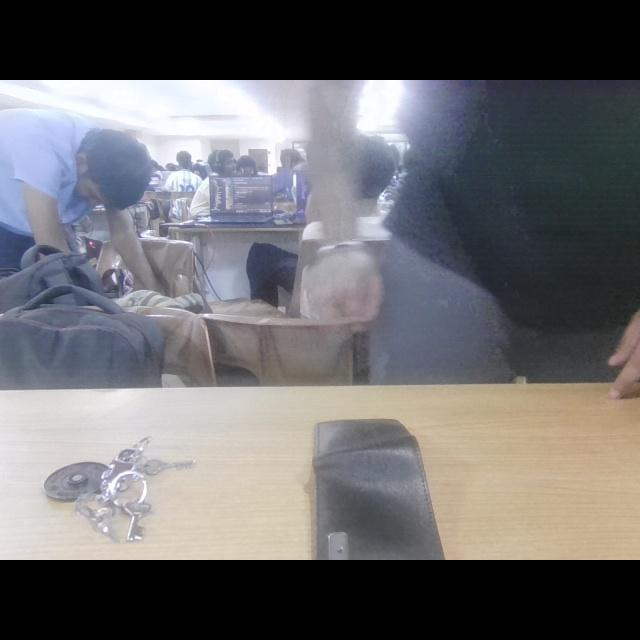keys: (36, 431, 200, 547)
wallet: (310, 412, 456, 560)
